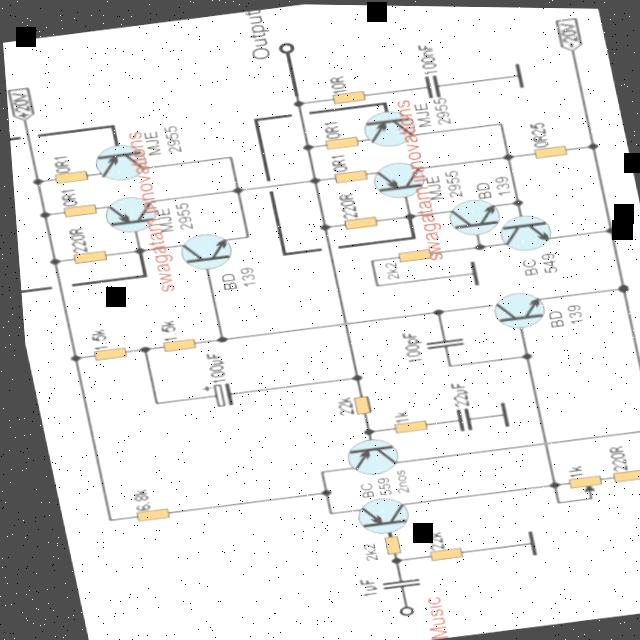capacitor: (359, 563, 424, 600), (403, 326, 468, 361), (184, 374, 240, 414), (409, 64, 453, 105), (439, 398, 479, 434)
ground: (442, 250, 493, 296), (491, 52, 537, 91), (499, 522, 540, 561), (480, 394, 514, 431)
node: (336, 364, 370, 387), (573, 135, 604, 160), (486, 146, 517, 168), (393, 204, 422, 226), (346, 419, 377, 438), (603, 276, 632, 296), (421, 300, 449, 320), (221, 179, 245, 200), (306, 218, 335, 235), (293, 134, 315, 156), (124, 241, 148, 261), (300, 169, 325, 188), (590, 221, 615, 240), (124, 342, 149, 360), (499, 192, 527, 208), (56, 346, 82, 363), (31, 204, 54, 223), (281, 95, 309, 110), (308, 482, 331, 500), (463, 236, 488, 252), (370, 552, 397, 566), (38, 254, 65, 268), (22, 175, 47, 190), (509, 347, 532, 363), (533, 477, 554, 492), (203, 332, 224, 346), (628, 417, 640, 438)
resistor: (519, 136, 579, 165), (47, 194, 104, 223), (332, 206, 387, 235), (118, 501, 179, 526), (327, 389, 373, 422), (357, 525, 403, 558), (373, 410, 429, 437), (152, 325, 204, 354), (558, 462, 605, 494), (323, 80, 374, 109), (62, 241, 116, 268), (384, 241, 439, 267), (414, 539, 463, 568), (47, 162, 96, 191), (597, 460, 640, 491), (316, 128, 366, 153), (324, 164, 371, 188), (80, 340, 126, 364)
transistor: (479, 194, 571, 264), (334, 480, 417, 545), (154, 220, 240, 279), (477, 280, 556, 340), (427, 190, 515, 242), (347, 100, 427, 155), (80, 137, 154, 194), (359, 151, 435, 205), (330, 429, 406, 481), (92, 188, 165, 241)
